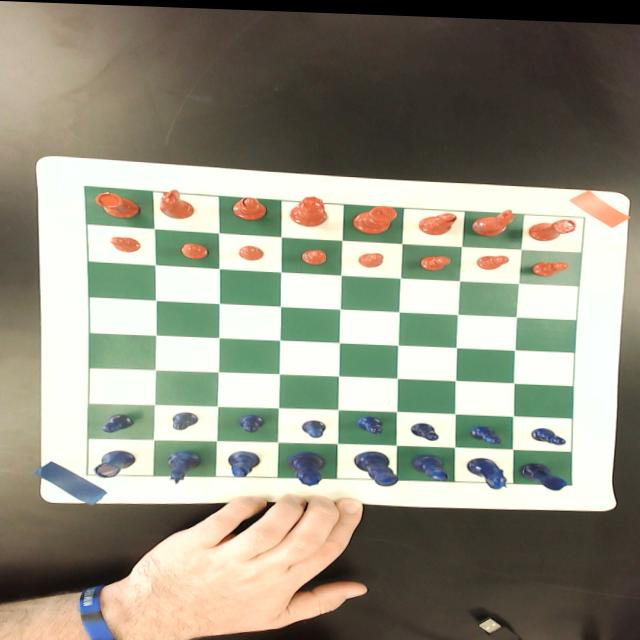B: (411, 450, 448, 478), (227, 448, 261, 476)
K: (353, 447, 398, 483)
N: (162, 448, 204, 482), (468, 454, 510, 487)
P: (100, 411, 136, 432), (469, 420, 503, 441), (531, 421, 566, 440), (236, 410, 266, 431), (172, 408, 200, 429), (410, 418, 440, 437), (301, 416, 327, 436), (358, 412, 383, 431)
Q: (288, 448, 326, 483)
R: (521, 457, 569, 487), (93, 448, 137, 478)
b: (417, 208, 458, 231), (230, 194, 268, 218)
cb: (84, 185, 585, 480)
k: (352, 201, 398, 232)
n: (472, 202, 520, 234), (157, 187, 197, 218)
p: (532, 255, 570, 273), (476, 249, 511, 266), (418, 250, 452, 267), (180, 239, 210, 258), (110, 234, 142, 251), (300, 245, 328, 262), (238, 242, 266, 259), (358, 248, 384, 265)
q: (290, 192, 328, 223)
r: (94, 189, 142, 218), (528, 212, 578, 238)
